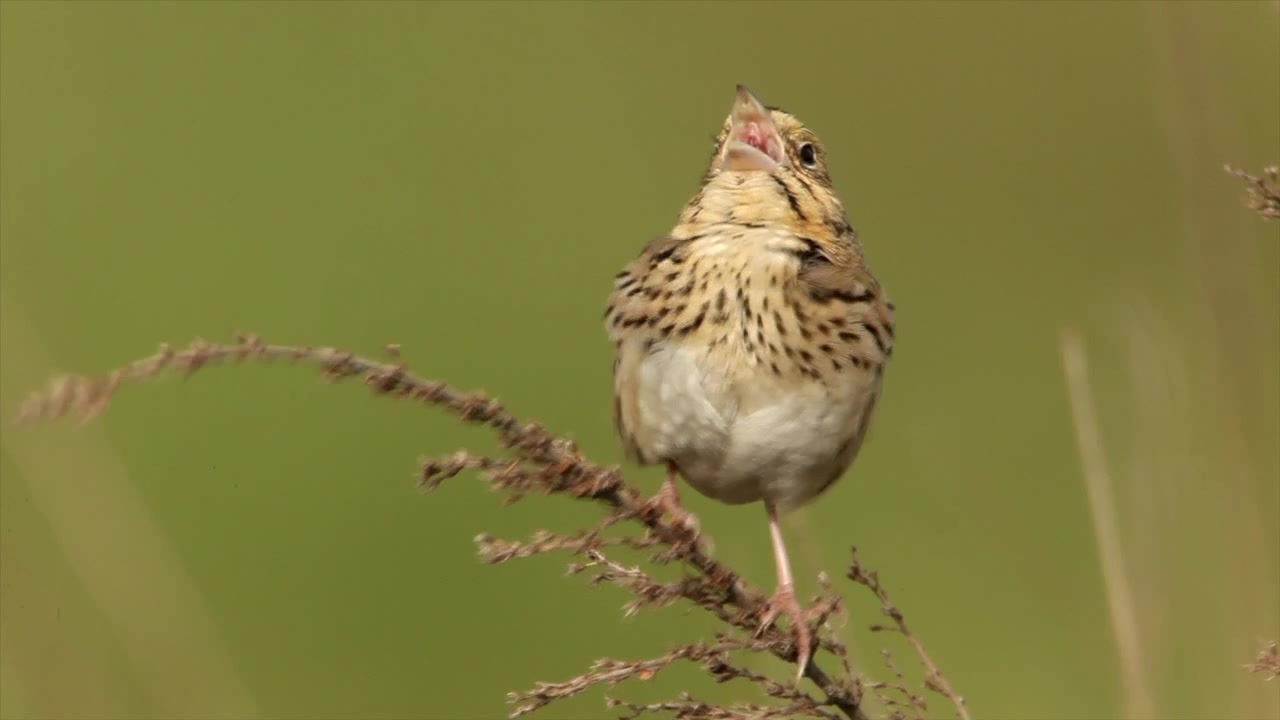bird: (602, 84, 898, 689)
